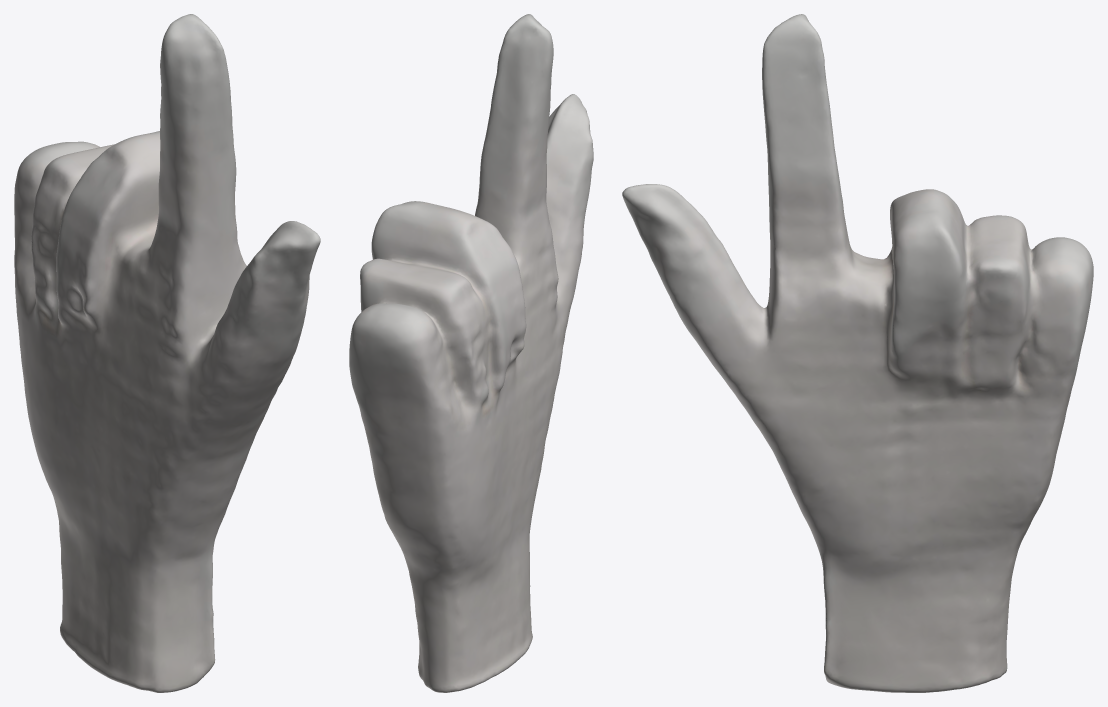
Rendered from ce0396aea52c_a__ok__hand_gesture.fbx.
3 renders of one model, left to right at view 1: azimuth 30°, elevation 25°; view 2: azimuth 150°, elevation 25°; view 3: azimuth 270°, elevation 25°, orthographic. The views are drawn at different scales.
Visible parts, largest first — view 1: high_poly; view 2: high_poly; view 3: high_poly.
Part boxes in pixels (left/top/right/bottom): high_poly: left=14, top=14, right=320, bottom=692; high_poly: left=349, top=14, right=593, bottom=692; high_poly: left=622, top=14, right=1093, bottom=692.
Bounding box in the file's own units: 22.47 × 100 × 64.68.
